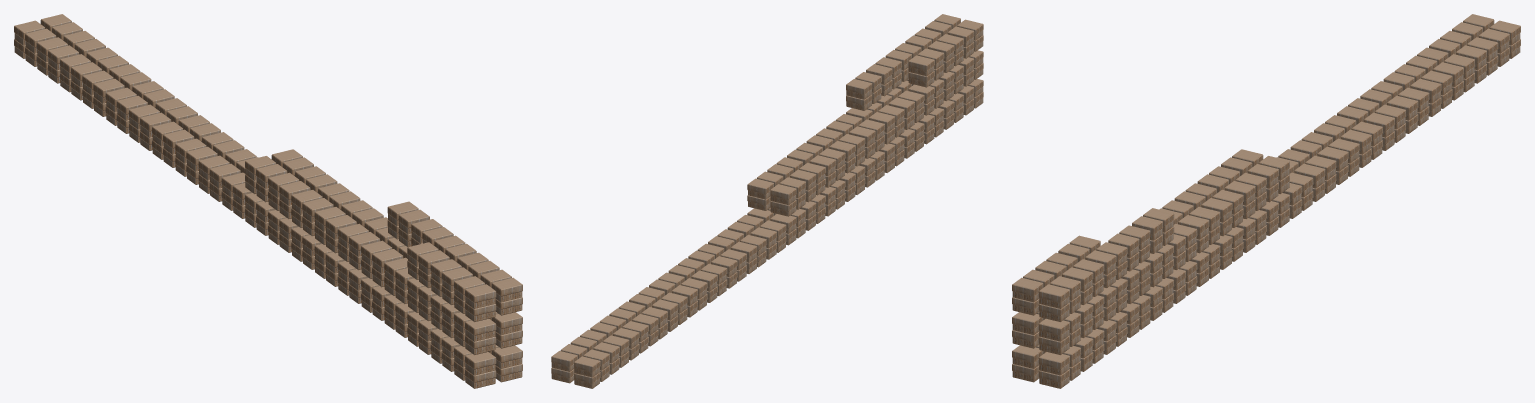
Rendered from zhediechuang.FBX.
The picture shows the model from 3 angles, left to right: view 1: azimuth 30°, elevation 25°; view 2: azimuth 150°, elevation 25°; view 3: azimuth 330°, elevation 25°; orthographic projection. The views are drawn at different scales.
Parts seen in each view (by area): view 1: Box2246, Box2157, Box2160, Box7969, Box7963, Box7960, Box8085, Box7789, Box7862, Box7829, Box7912, Box7882 (+46 smaller); view 2: Box7840, Box7777, Box7943, Box8083, Box8076, Box8033, Box8080, Box7780, Box7853, Box7893, Box7800, Box7820 (+36 smaller); view 3: Box7969, Box7963, Box7960, Box2246, Box2157, Box2160, Box8085, Box8043, Box8025, Box8063, Box8051, Box8059 (+45 smaller).
Part boxes in pixels (bbox=[...]): Box2246: bbox=[465, 284, 496, 321]; Box2157: bbox=[465, 352, 496, 388]; Box2160: bbox=[465, 318, 496, 354]; Box7969: bbox=[491, 277, 522, 315]; Box7963: bbox=[491, 345, 522, 382]; Box7960: bbox=[491, 312, 522, 348]; Box8085: bbox=[398, 209, 429, 247]; Box7789: bbox=[372, 249, 403, 287]; Box7862: bbox=[209, 163, 240, 201]; Box7829: bbox=[279, 181, 310, 218]; Box7912: bbox=[93, 78, 124, 116]; Box7882: bbox=[163, 129, 194, 167]; Box7840: bbox=[770, 184, 796, 216]; Box7777: bbox=[908, 55, 934, 87]; Box7943: bbox=[574, 356, 600, 388]; Box8083: bbox=[846, 79, 872, 110]; Box8076: bbox=[551, 351, 577, 383]; Box8033: bbox=[747, 178, 773, 210]; Box8080: bbox=[866, 64, 892, 96]; Box7780: bbox=[888, 97, 914, 129]; Box7853: bbox=[750, 227, 776, 259]; Box7893: bbox=[671, 285, 697, 317]; Box7800: bbox=[849, 126, 875, 158]; Box7820: bbox=[809, 155, 836, 187]; Box7969: bbox=[1038, 284, 1069, 321]; Box7963: bbox=[1038, 352, 1069, 388]; Box7960: bbox=[1038, 318, 1069, 354]; Box2246: bbox=[1012, 277, 1043, 315]; Box2157: bbox=[1012, 345, 1043, 382]; Box2160: bbox=[1012, 312, 1043, 348]; Box8085: bbox=[1132, 216, 1162, 253]; Box8043: bbox=[1294, 163, 1325, 201]; Box8025: bbox=[1224, 181, 1255, 218]; Box8063: bbox=[1410, 78, 1441, 116]; Box8051: bbox=[1340, 129, 1371, 167]; Box8059: bbox=[1387, 95, 1418, 133].
Bounding box in the file's own units: 2.09 × 34.08 × 3.81.
